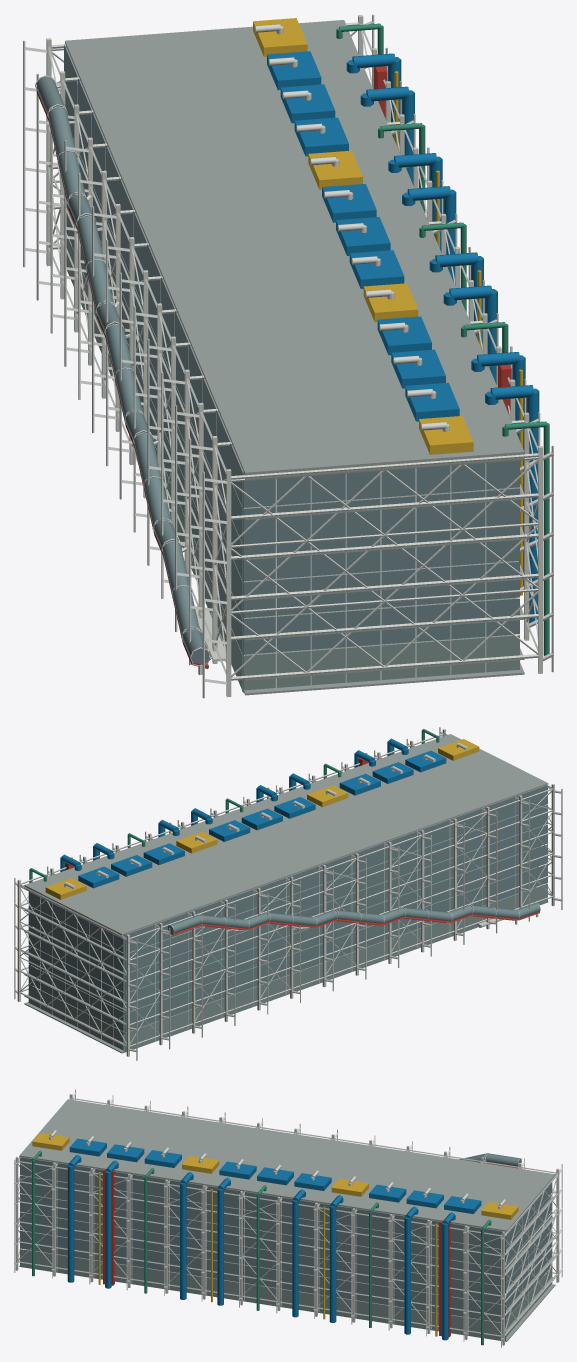
File: centre-pompidou-far.glb
3 views of the same model, one above another, from view 1: azimuth 30°, elevation 25°; view 2: azimuth 150°, elevation 25°; view 3: azimuth 270°, elevation 25° (orthographic). The views are drawn at different scales.
Parts seen in each view (by area): view 1: centre-pompidou-0-roof, centre-pompidou-0-glass, centre-pompidou-0-frame, centre-pompidou-0-blue, centre-pompidou-0-glow, centre-pompidou-0-yellow, centre-pompidou-0-green, centre-pompidou-0-red; view 2: centre-pompidou-0-glass, centre-pompidou-0-roof, centre-pompidou-0-frame, centre-pompidou-0-glow, centre-pompidou-0-blue, centre-pompidou-0-yellow, centre-pompidou-0-red, centre-pompidou-0-green; view 3: centre-pompidou-0-glass, centre-pompidou-0-roof, centre-pompidou-0-frame, centre-pompidou-0-blue, centre-pompidou-0-glow, centre-pompidou-0-yellow, centre-pompidou-0-green, centre-pompidou-0-red.
Part boxes in pixels (x1=…): centre-pompidou-0-roof: x1=65, y1=20, x2=524, y2=695; centre-pompidou-0-glass: x1=36, y1=45, x2=519, y2=665; centre-pompidou-0-frame: x1=23, y1=14, x2=553, y2=698; centre-pompidou-0-blue: x1=267, y1=51, x2=539, y2=623; centre-pompidou-0-glow: x1=66, y1=235, x2=519, y2=693; centre-pompidou-0-yellow: x1=253, y1=18, x2=522, y2=595; centre-pompidou-0-green: x1=336, y1=23, x2=549, y2=655; centre-pompidou-0-red: x1=36, y1=66, x2=511, y2=668; centre-pompidou-0-glass: x1=28, y1=785, x2=547, y2=1033; centre-pompidou-0-roof: x1=24, y1=734, x2=548, y2=1053; centre-pompidou-0-frame: x1=14, y1=727, x2=562, y2=1060; centre-pompidou-0-glow: x1=28, y1=883, x2=547, y2=1052; centre-pompidou-0-blue: x1=60, y1=738, x2=446, y2=888; centre-pompidou-0-yellow: x1=45, y1=739, x2=479, y2=899; centre-pompidou-0-red: x1=65, y1=758, x2=539, y2=935; centre-pompidou-0-green: x1=29, y1=729, x2=439, y2=985; centre-pompidou-0-glass: x1=20, y1=1153, x2=552, y2=1323; centre-pompidou-0-roof: x1=19, y1=1099, x2=555, y2=1341; centre-pompidou-0-frame: x1=14, y1=1089, x2=562, y2=1347; centre-pompidou-0-blue: x1=67, y1=1138, x2=481, y2=1340; centre-pompidou-0-glow: x1=20, y1=1249, x2=552, y2=1341; centre-pompidou-0-yellow: x1=32, y1=1133, x2=518, y2=1336; centre-pompidou-0-green: x1=32, y1=1150, x2=491, y2=1345; centre-pompidou-0-red: x1=103, y1=1163, x2=517, y2=1337.
Size of the model in its own units: 109 by 41.99 by 173.
